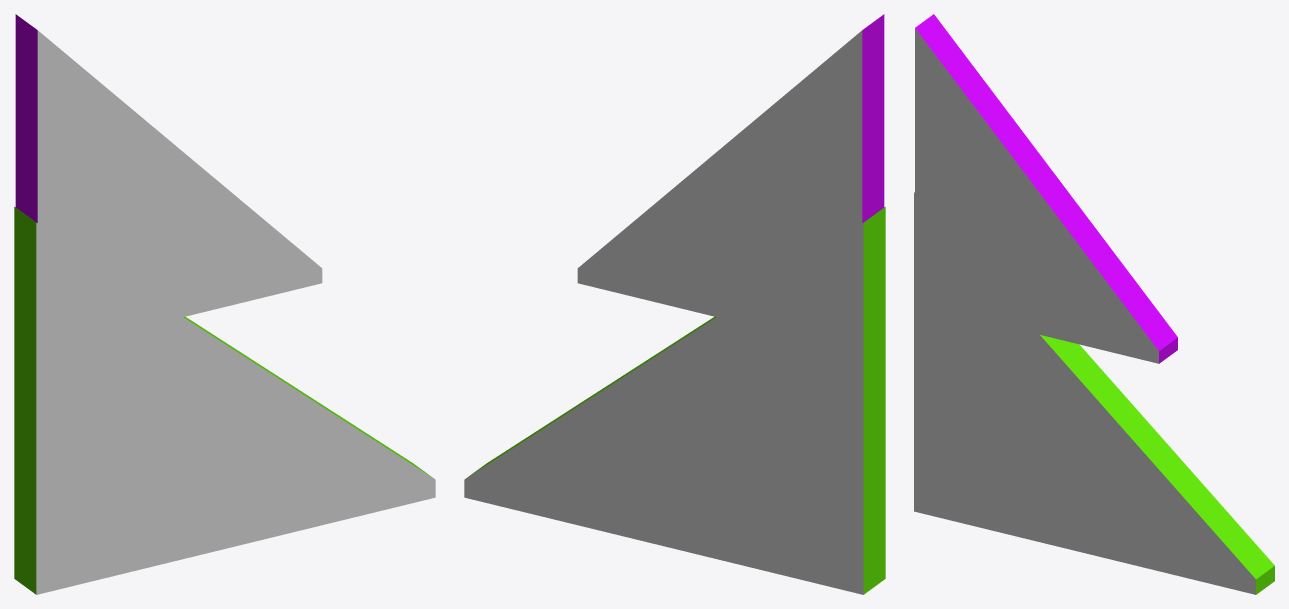
The model's file is üstk_lv3.fbx.
3 views of the same model, side by side, from view 1: azimuth 30°, elevation 25°; view 2: azimuth 150°, elevation 25°; view 3: azimuth 330°, elevation 25° (orthographic). The views are drawn at different scales.
Parts seen in each view (by area): view 1: üstk_lv3; view 2: üstk_lv3; view 3: üstk_lv3.
Part boxes in pixels (x1,y1,x2,y2): üstk_lv3: (14, 14, 435, 594); üstk_lv3: (464, 14, 885, 594); üstk_lv3: (914, 14, 1274, 594).
Bounding box in the file's own units: 80.67 × 109 × 7.74.
